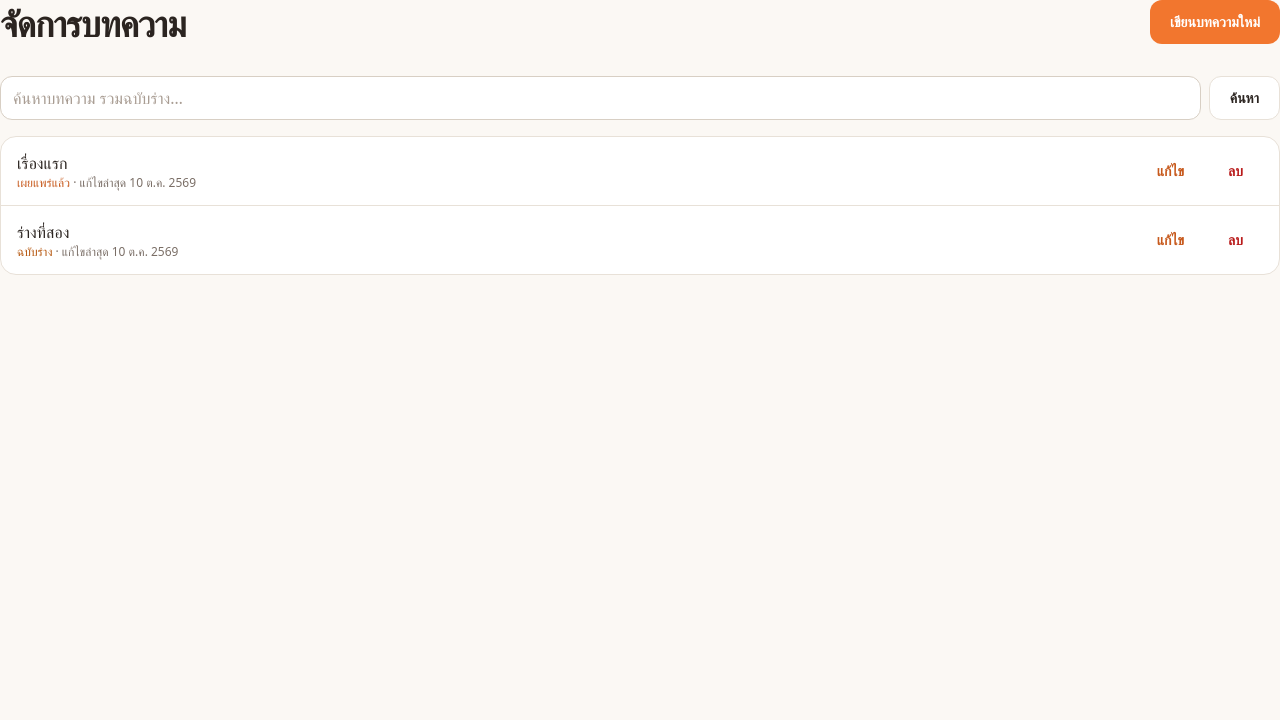
Test: ลบไม่สำเร็จ แถวยังอยู่ และบอกข้อความจาก server
The image size is (1280, 720).
Click the button "ลบ" in the row of "เรื่องแรก" at coordinates (1236, 171), box [1208,149,1263,193]
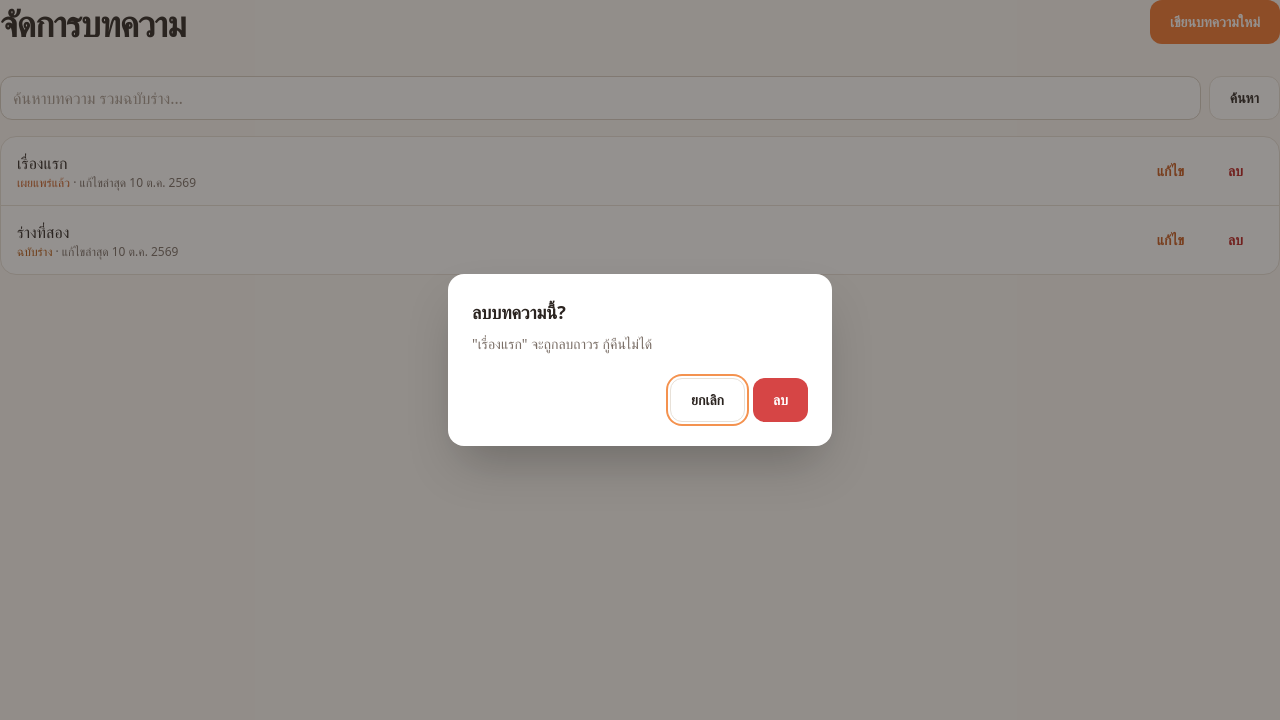
Click the button "ลบ" at coordinates (781, 400), box [753,378,808,422]
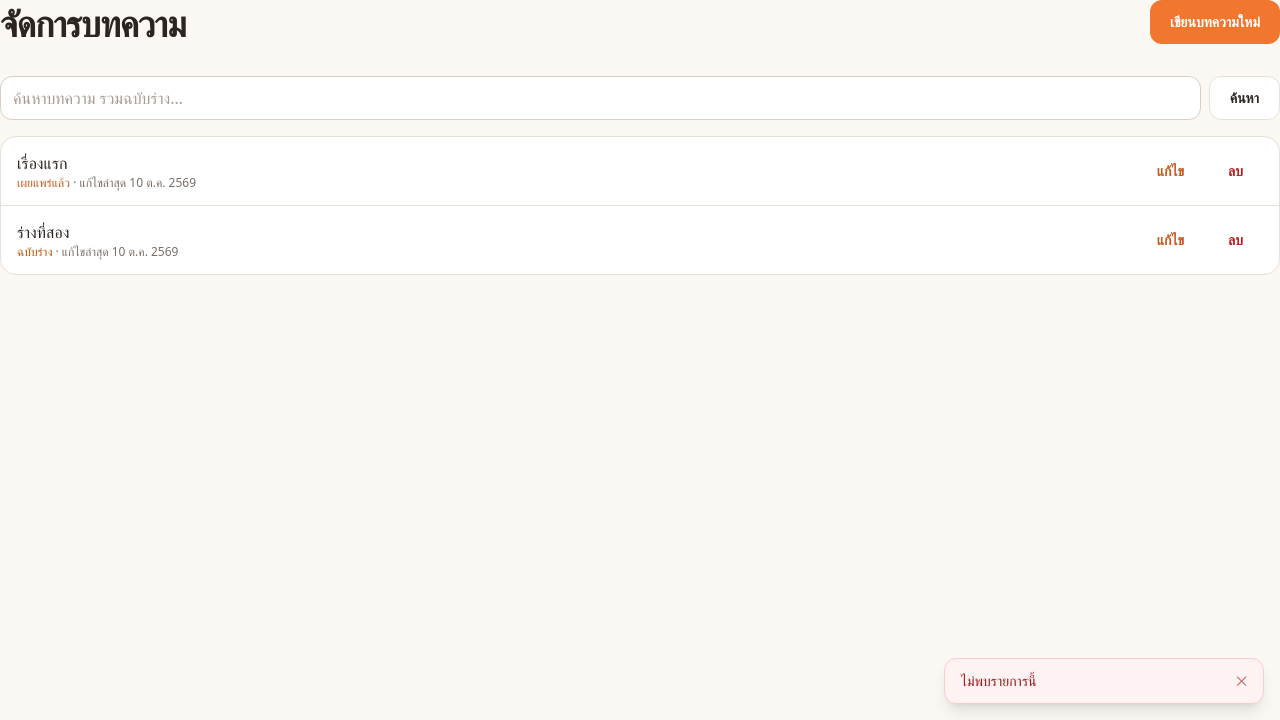
Expected: the text "เรื่องแรก" is shown, [17,152,68,174]
Expected: the text "ไม่พบรายการนี้" is shown, [961,671,1036,690]
